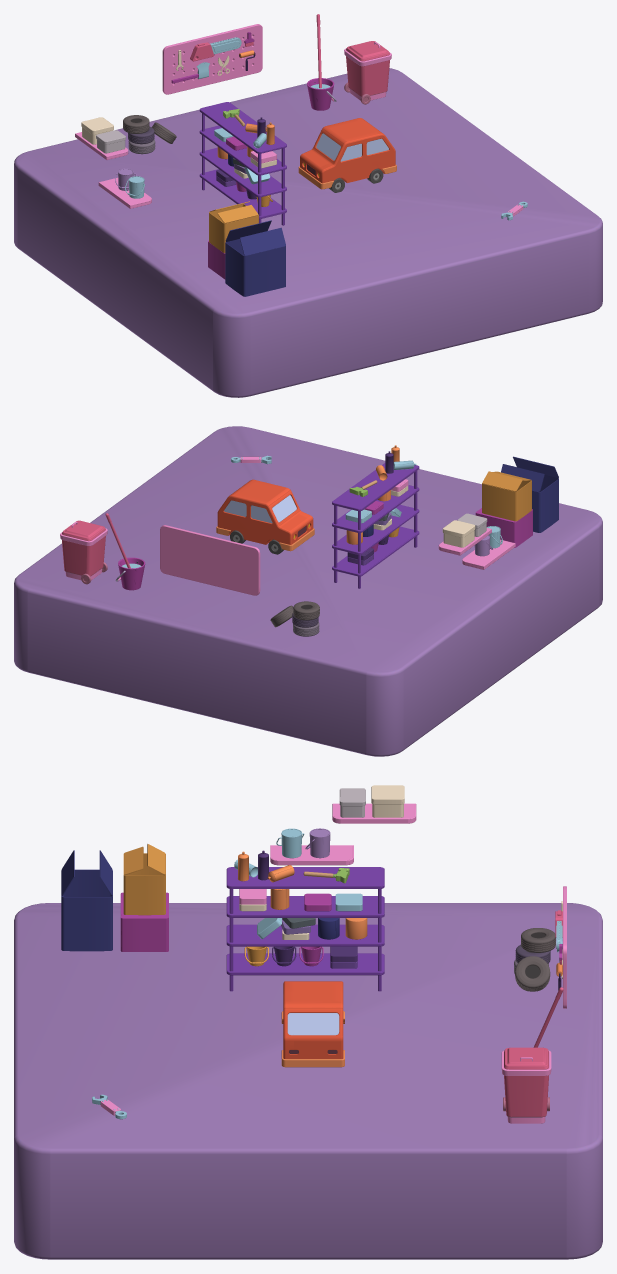
Rendered from stage_07_uv.fbx.
3 views of the same model, one above another, from view 1: azimuth 30°, elevation 25°; view 2: azimuth 150°, elevation 25°; view 3: azimuth 270°, elevation 25° (orthographic). The views are drawn at different scales.
Visible parts, largest first — view 1: bg_1, big_shelf_1, nomal_car_body_1, box_02_1, hanger_1, trash_can_1, box_03_1, tires_1, bucket_1, saw_1, shelf_1, package_01_1 (+1 smaller); view 2: bg_1, big_shelf_1, hanger_1, nomal_car_body_1, trash_can_1, box_02_1, box_03_1, tires_1, box_1, bucket_1, package_02_1, shelf_1; view 3: bg_1, big_shelf_1, nomal_car_body_1, box_02_1, trash_can_1, box_03_1, tires_1, box_1, shelf_1, package_02_1, shelf_02_1, package_01_1.
Part boxes in pixels (left/top/right/bottom): bg_1: left=14, top=68, right=602, bottom=397; big_shelf_1: left=199, top=102, right=286, bottom=225; nomal_car_body_1: left=298, top=118, right=396, bottom=189; box_02_1: left=225, top=220, right=285, bottom=296; hanger_1: left=162, top=24, right=262, bottom=94; trash_can_1: left=344, top=41, right=391, bottom=104; box_03_1: left=209, top=201, right=258, bottom=253; tires_1: left=123, top=115, right=176, bottom=154; bucket_1: left=307, top=78, right=336, bottom=110; saw_1: left=190, top=37, right=241, bottom=61; shelf_1: left=98, top=177, right=151, bottom=208; package_01_1: left=96, top=130, right=125, bottom=153; bg_1: left=14, top=426, right=602, bottom=756; big_shelf_1: left=332, top=463, right=419, bottom=588; hanger_1: left=160, top=525, right=260, bottom=595; nomal_car_body_1: left=216, top=479, right=314, bottom=551; trash_can_1: left=60, top=520, right=107, bottom=584; box_02_1: left=501, top=456, right=558, bottom=532; box_03_1: left=482, top=471, right=531, bottom=521; tires_1: left=270, top=601, right=319, bottom=636; box_1: left=475, top=508, right=532, bottom=547; bucket_1: left=115, top=557, right=145, bottom=590; package_02_1: left=442, top=520, right=475, bottom=547; shelf_1: left=462, top=539, right=515, bottom=569; bg_1: left=14, top=903, right=602, bottom=1259; big_shelf_1: left=226, top=867, right=384, bottom=991; nomal_car_body_1: left=281, top=981, right=344, bottom=1067; box_02_1: left=61, top=850, right=112, bottom=951; trash_can_1: left=501, top=1047, right=551, bottom=1123; box_03_1: left=123, top=844, right=165, bottom=915; tires_1: left=514, top=928, right=555, bottom=991; box_1: left=120, top=892, right=168, bottom=951; shelf_1: left=270, top=845, right=353, bottom=865; package_02_1: left=371, top=785, right=404, bottom=817; shelf_02_1: left=332, top=803, right=416, bottom=823; package_01_1: left=339, top=788, right=365, bottom=817.
Bounding box in the file's own units: 1300 × 595 × 1300.
46 materials, 46 textured.
